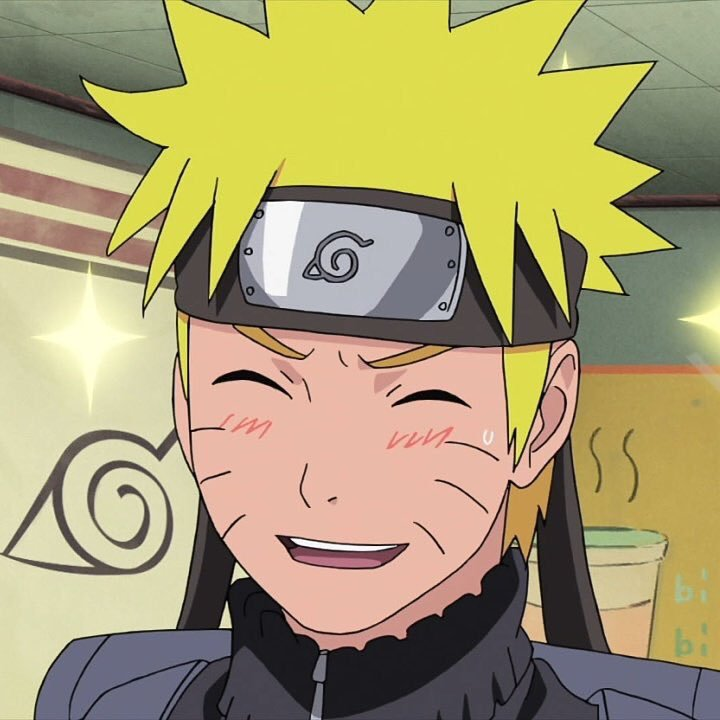naruto: (157, 165, 584, 640)
